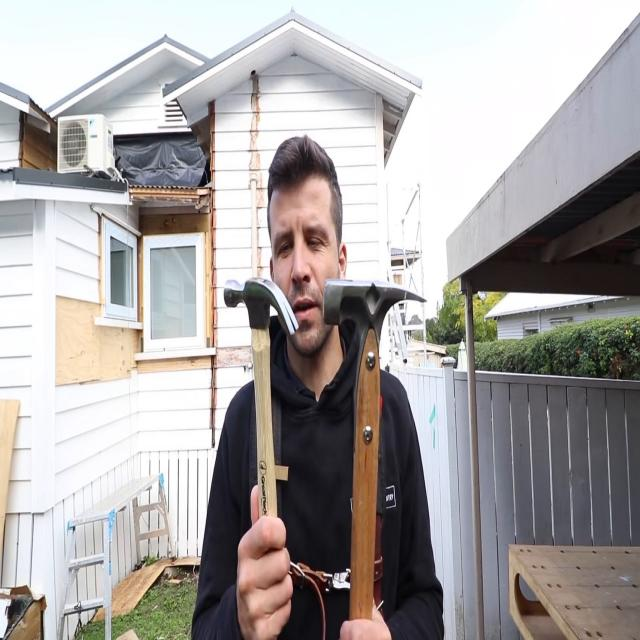hammer: (320, 280, 430, 622), (221, 275, 302, 573)
